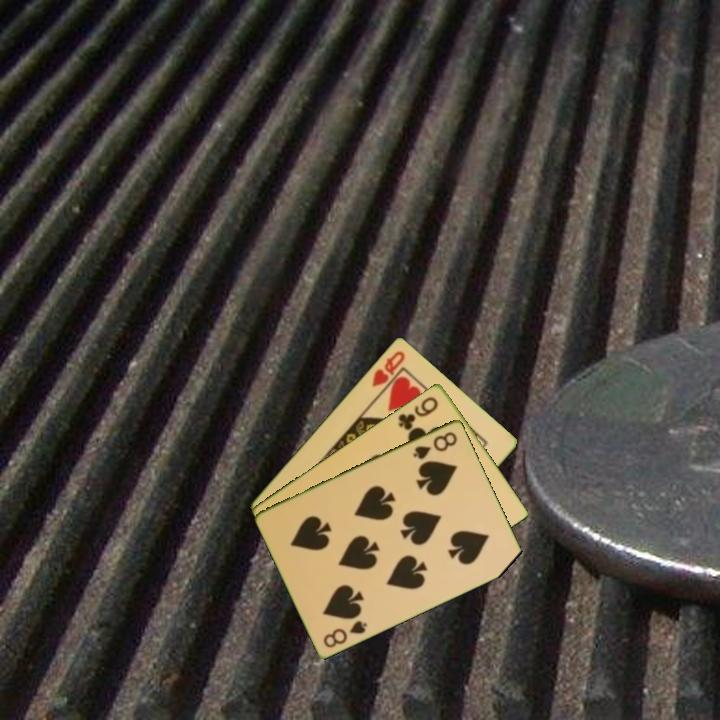8s: (409, 428, 460, 462), (320, 617, 370, 650)
9c: (394, 392, 441, 433)
Qh: (368, 347, 408, 390)
